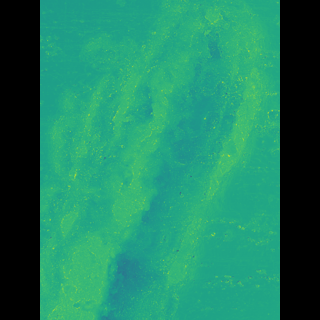Loch: (68, 0, 241, 320)
